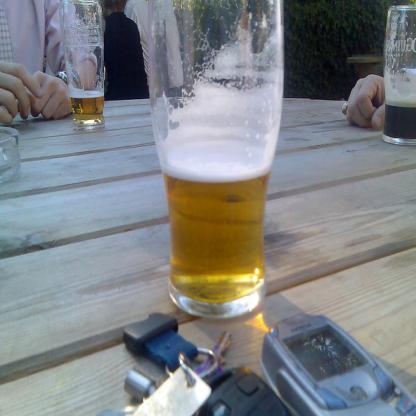drinking: (147, 0, 285, 320), (60, 0, 104, 132)
